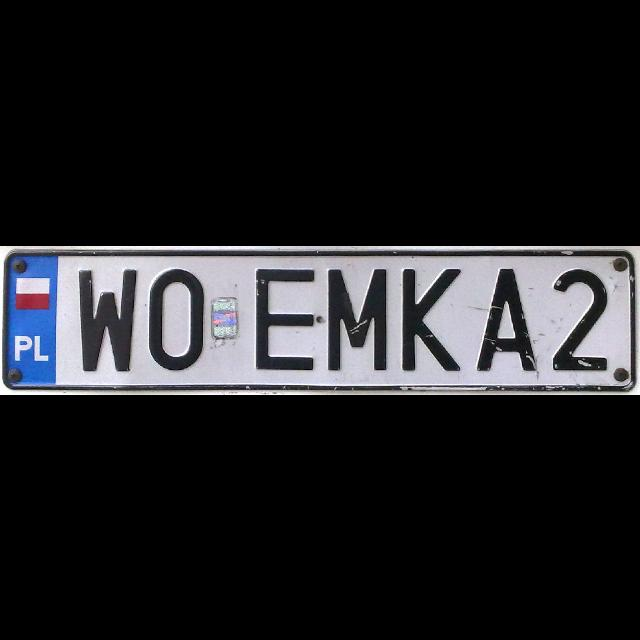pl_license_plate: (6, 251, 632, 387)
